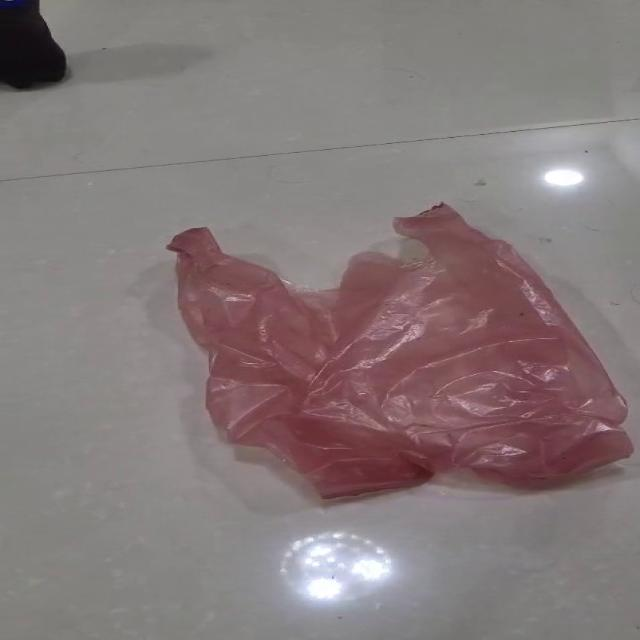plastic: (166, 200, 632, 500)
